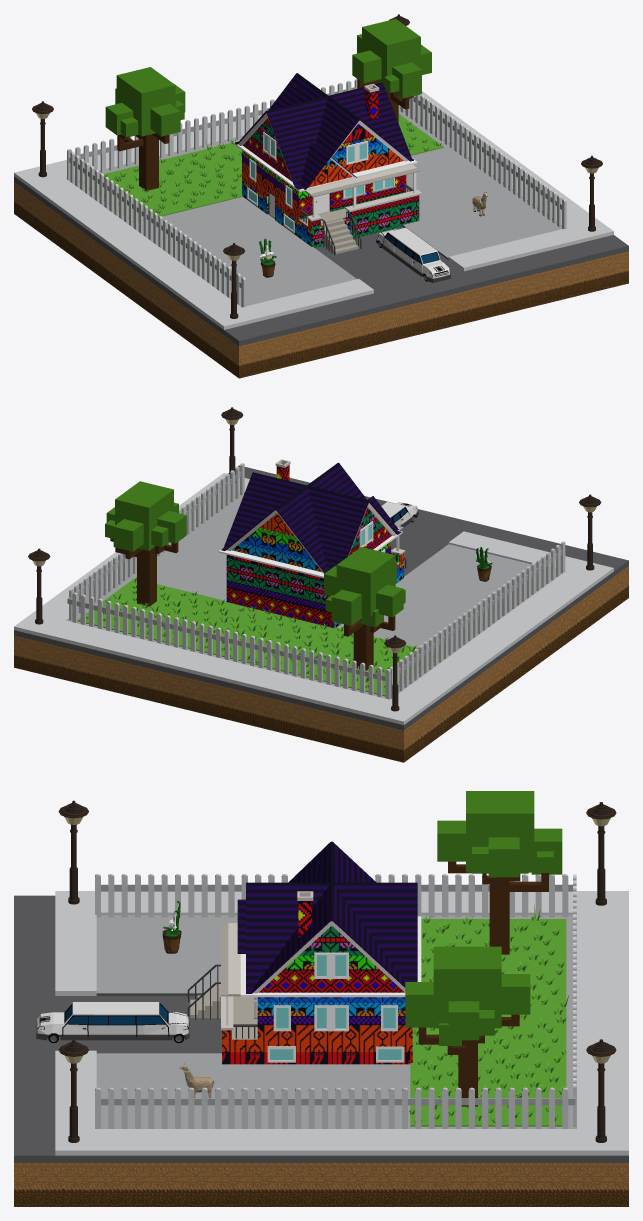
3 renders of one model, top to bottom at view 1: azimuth 30°, elevation 25°; view 2: azimuth 150°, elevation 25°; view 3: azimuth 270°, elevation 25°, orthographic. The views are drawn at different scales.
Visible parts, largest first — view 1: Cube.004, Cube.966, VEHICLES_LIMOUSINE; view 2: Cube.004, Cube.966, VEHICLES_LIMOUSINE; view 3: Cube.004, Cube.966, VEHICLES_LIMOUSINE, OBJRANDOM_MONJA BLANCA.
Part boxes in pixels (left/top/right/bottom): Cube.004: left=14, top=14, right=628, bottom=378; Cube.966: left=233, top=73, right=422, bottom=255; VEHICLES_LIMOUSINE: left=375, top=227, right=451, bottom=282; Cube.004: left=14, top=407, right=628, bottom=762; Cube.966: left=218, top=459, right=406, bottom=627; VEHICLES_LIMOUSINE: left=381, top=502, right=418, bottom=527; Cube.004: left=14, top=791, right=628, bottom=1206; Cube.966: left=187, top=841, right=421, bottom=1064; VEHICLES_LIMOUSINE: left=36, top=1002, right=189, bottom=1043; OBJRANDOM_MONJA BLANCA: left=162, top=901, right=181, bottom=953.
Bounding box in the file's own units: 4000 × 1702 × 4000.
Materials: 39 (7 with a texture image).
